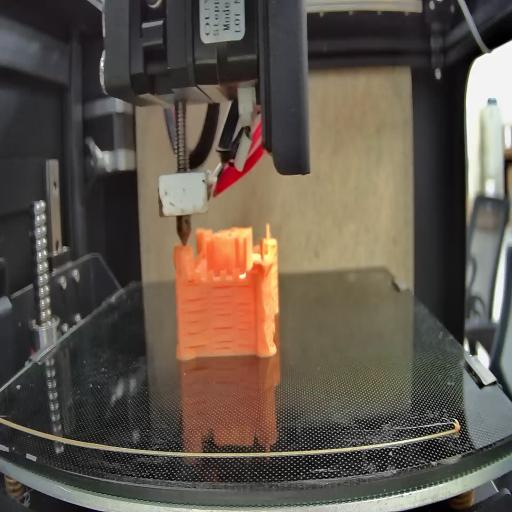cracks: (181, 295, 211, 349), (237, 300, 259, 350), (212, 283, 234, 318), (213, 323, 234, 349), (236, 282, 253, 291)
